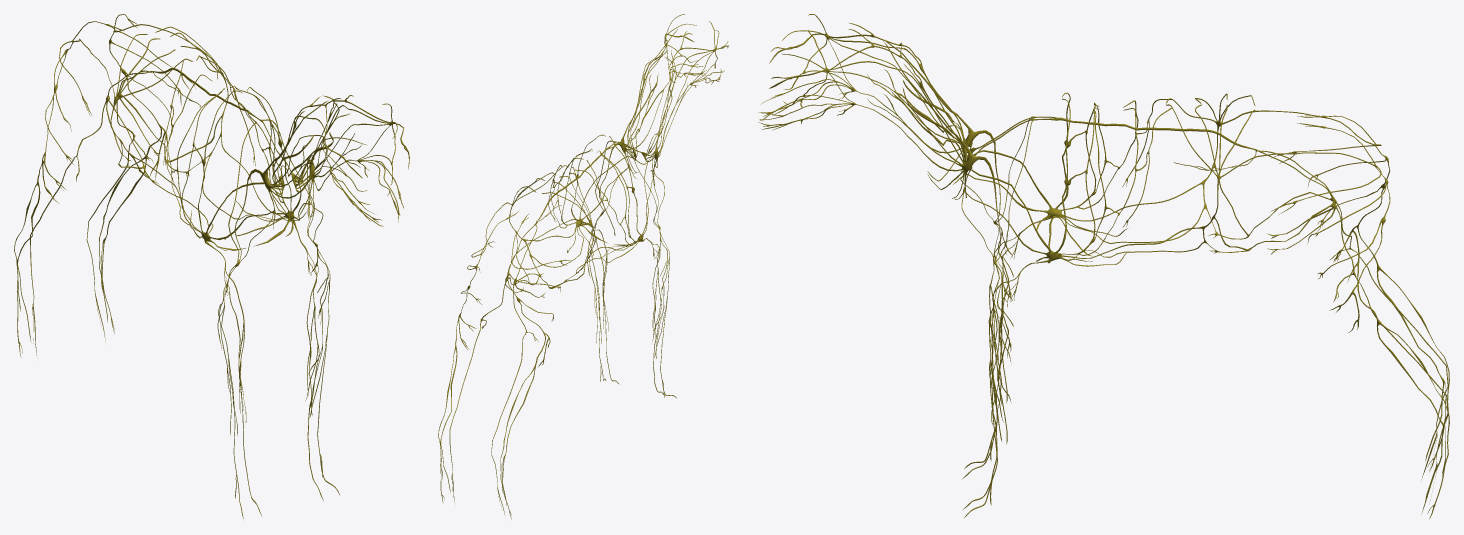
The model's file is Lymphatic System.fbx.
3 views of the same model, side by side, from view 1: azimuth 30°, elevation 25°; view 2: azimuth 150°, elevation 25°; view 3: azimuth 270°, elevation 25° (orthographic). The views are drawn at different scales.
Parts seen in each view (by area): view 1: Lymphatic System; view 2: Lymphatic System; view 3: Lymphatic System.
Part boxes in pixels (x1,y1,x2,y2): Lymphatic System: (14,14,409,518); Lymphatic System: (438,14,728,519); Lymphatic System: (758,14,1449,519).
Size of the model in its own units: 8.22 by 29.47 by 38.65.
